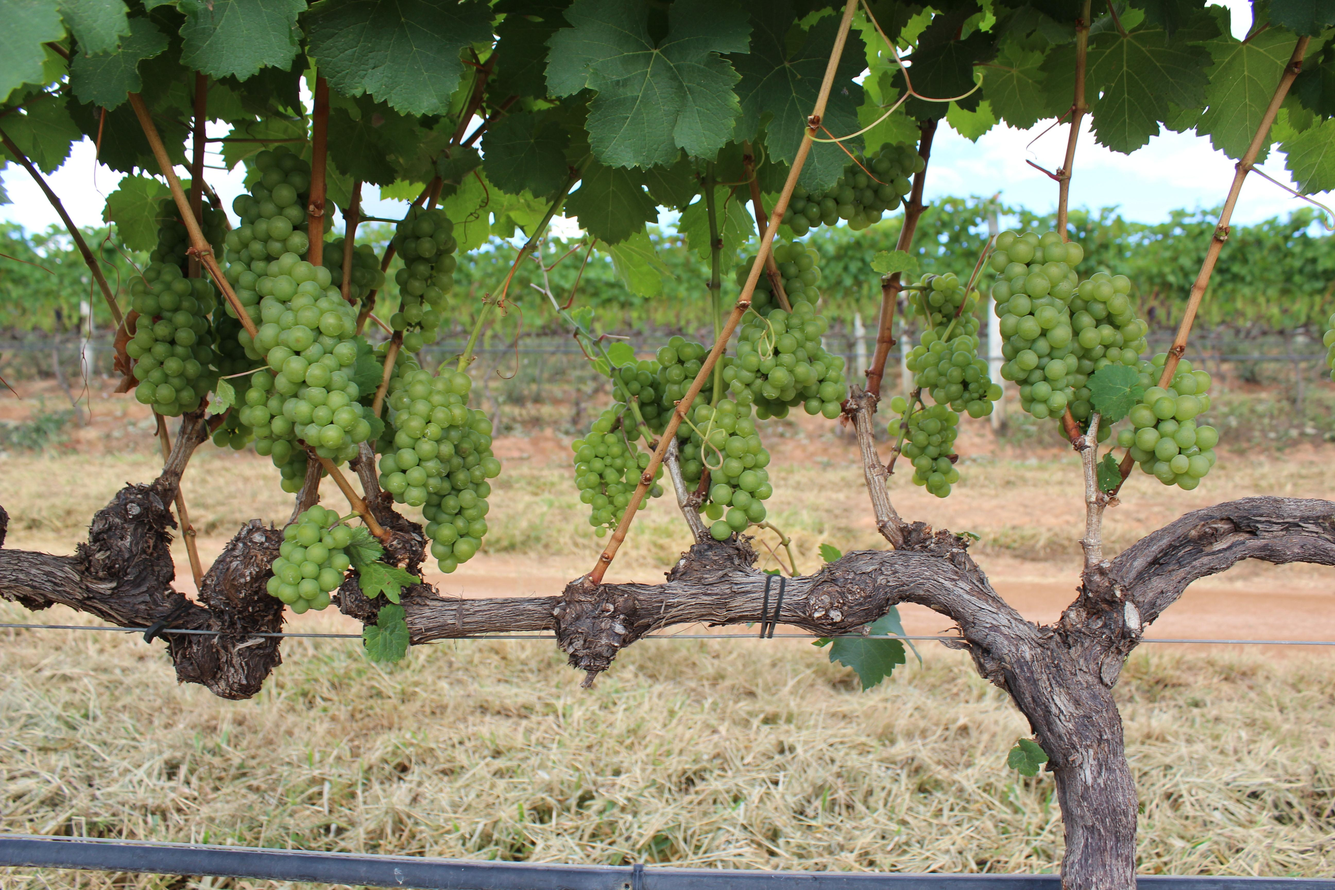leaf: (547, 0, 750, 167), (303, 0, 492, 114), (731, 0, 840, 164), (1087, 29, 1211, 153), (1196, 29, 1295, 158), (180, 0, 307, 81), (70, 18, 168, 109), (328, 96, 419, 184), (565, 161, 657, 244), (483, 112, 570, 196), (982, 41, 1064, 129), (0, 0, 65, 101), (3, 97, 82, 173), (104, 176, 169, 252), (602, 230, 673, 297), (822, 34, 865, 137), (1281, 119, 1335, 194), (59, 0, 130, 54), (1086, 363, 1144, 424), (714, 186, 755, 271), (363, 604, 410, 661), (357, 561, 420, 603), (1269, 0, 1335, 36), (677, 195, 711, 263), (946, 99, 998, 142), (800, 143, 848, 189), (343, 526, 383, 570), (1007, 738, 1048, 776), (871, 250, 918, 277), (205, 378, 236, 416), (1096, 454, 1122, 492), (1257, 140, 1269, 161), (843, 138, 861, 150), (0, 149, 7, 156), (817, 132, 826, 137), (349, 556, 351, 559), (794, 35, 795, 36), (461, 247, 461, 249), (452, 216, 452, 218)
